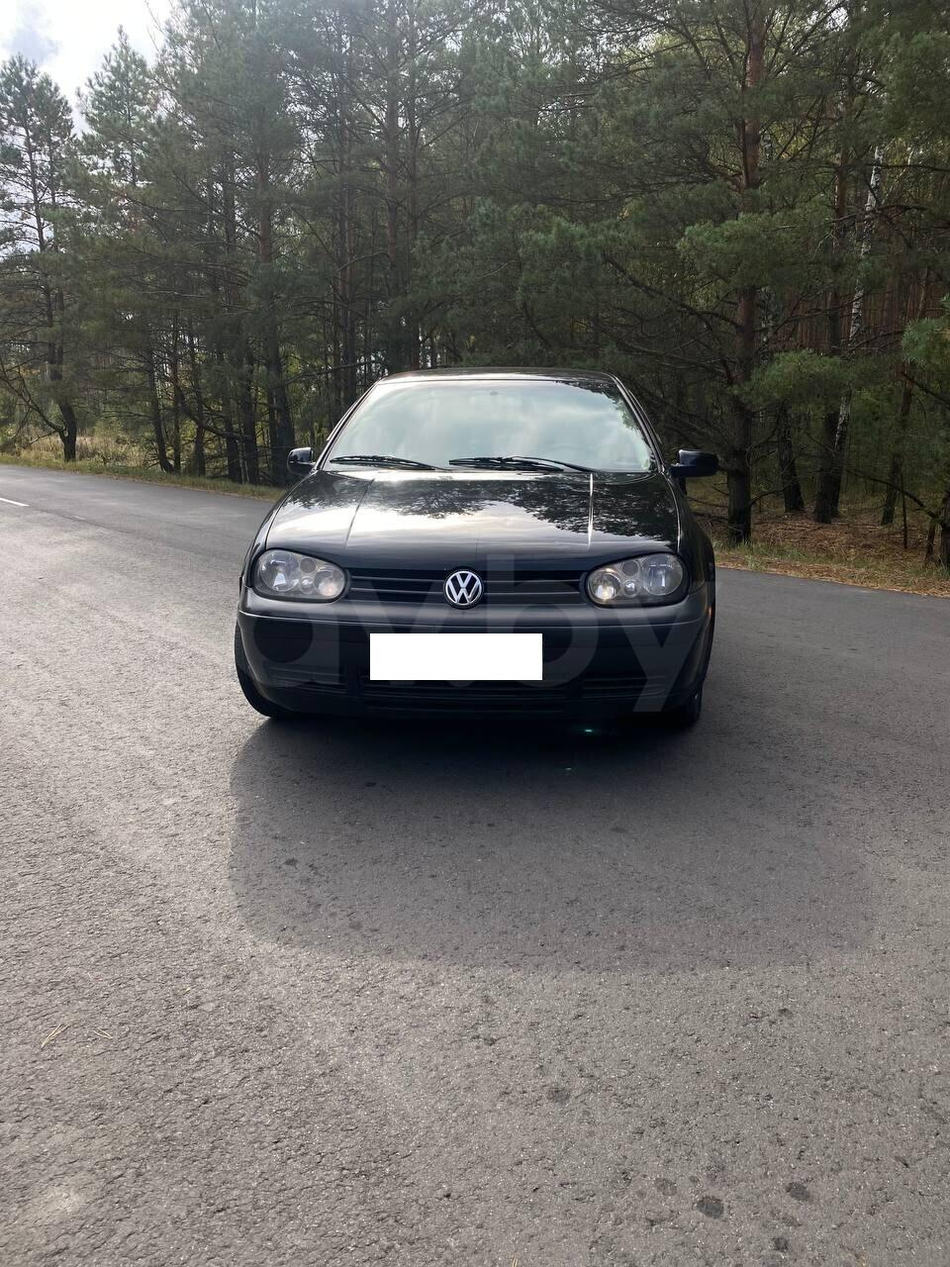Golf_1997-2006: (238, 357, 718, 754)
